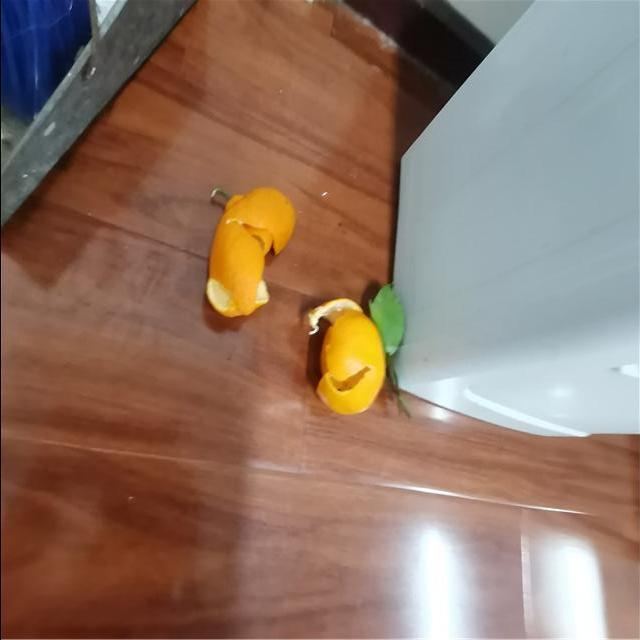orange peel: (202, 186, 294, 319), (308, 296, 387, 416)
